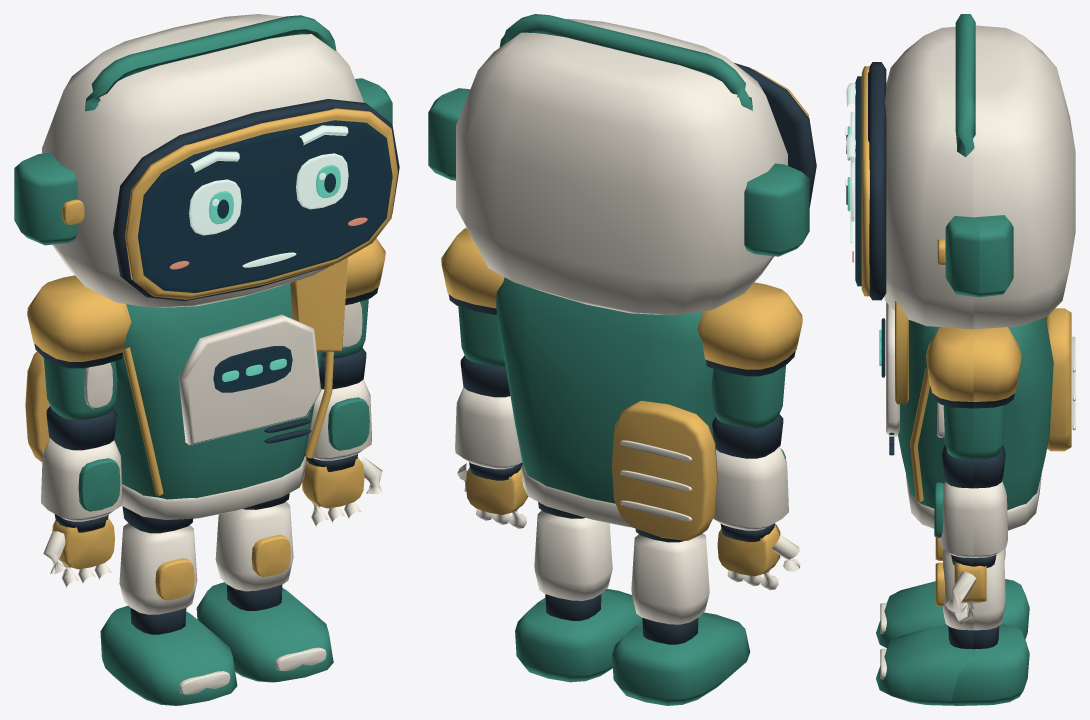
Rendered from classroom-low.glb.
3 renders of one model, left to right at view 1: azimuth 30°, elevation 25°; view 2: azimuth 150°, elevation 25°; view 3: azimuth 270°, elevation 25°, orthographic. The views are drawn at different scales.
Parts seen in each view (by area): view 1: torso-enamel, head-hull, face-display, lower-shell, ear-housing--1, collar-lip, visor-rim, shoulder-cap--1, visor-gasket, leg-armor--1, leg-armor-1, forearm-shell--1 (+23 smaller); view 2: head-hull, torso-enamel, ear-housing--1, collar-lip, shoulder-cap--1, leg-armor--1, leg-armor-1, forearm-shell--1, forearm-shell-1, lower-shell, upper-arm--1, shoulder-cap-1 (+11 smaller); view 3: head-hull, torso-enamel, ear-housing--1, shoulder-cap-1, collar-lip, forearm-shell-1, visor-gasket, lower-shell, upper-arm-1, leg-armor-1, elbow-1, visor-rim (+8 smaller).
Part boxes in pixels (x1,y1,x2,y2): torso-enamel: (100, 283, 333, 705); head-hull: (42, 14, 364, 307); face-display: (138, 120, 392, 292); lower-shell: (122, 314, 326, 694); ear-housing--1: (14, 15, 392, 245); collar-lip: (25, 257, 348, 495); visor-rim: (62, 108, 397, 299); shoulder-cap--1: (27, 275, 131, 361); visor-gasket: (113, 99, 399, 301); leg-armor--1: (119, 523, 197, 614); leg-armor-1: (215, 501, 293, 591); forearm-shell--1: (41, 438, 122, 521); head-hull: (456, 18, 787, 314); torso-enamel: (496, 277, 750, 705); ear-housing--1: (428, 14, 809, 256); collar-lip: (612, 400, 717, 540); shoulder-cap--1: (697, 282, 802, 369); leg-armor--1: (631, 533, 709, 624); leg-armor-1: (534, 510, 612, 600); forearm-shell--1: (713, 446, 788, 530); forearm-shell-1: (455, 387, 522, 469); lower-shell: (521, 440, 692, 527); upper-arm--1: (711, 365, 785, 428); shoulder-cap-1: (441, 227, 504, 308); head-hull: (884, 25, 1075, 329); torso-enamel: (876, 317, 1053, 705); ear-housing--1: (945, 14, 1013, 297); shoulder-cap-1: (926, 327, 1021, 401); collar-lip: (895, 301, 1071, 501); forearm-shell-1: (939, 481, 1007, 557); visor-gasket: (868, 62, 886, 300); lower-shell: (880, 302, 1075, 679); upper-arm-1: (943, 405, 1004, 459); leg-armor-1: (943, 549, 1005, 630); elbow-1: (942, 445, 1005, 567); visor-rim: (861, 66, 945, 296).
Size of the model in its own units: 1.02 by 1.68 by 0.5765.
